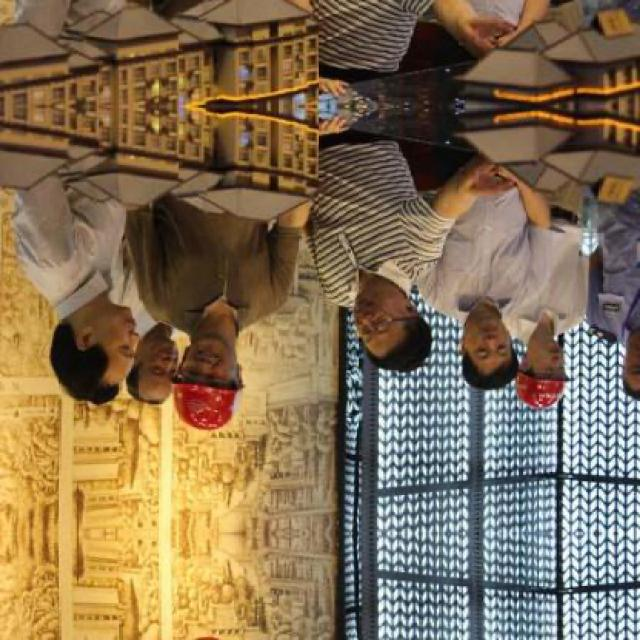con casco: (182, 335, 272, 437), (523, 332, 601, 423)
sin casco: (38, 276, 142, 420), (337, 268, 447, 375), (126, 314, 180, 418), (451, 314, 524, 388)
